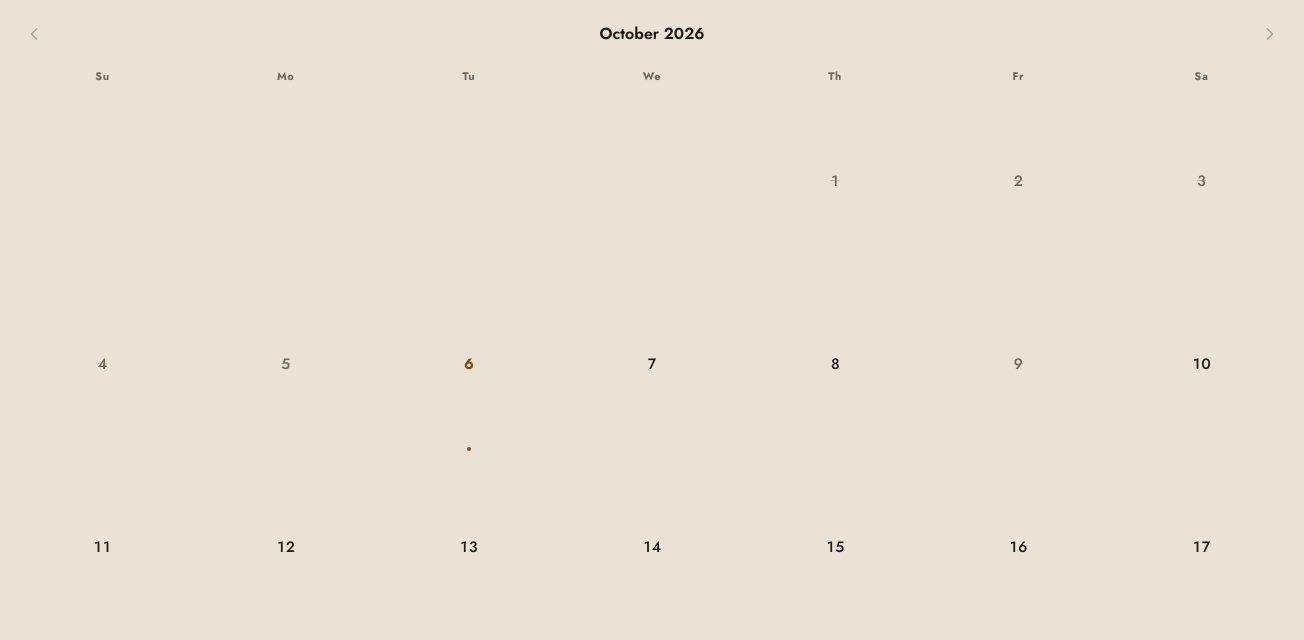
Test: a day that is not on offer › says it has passed
Click the cell named "Monday 5 October" at (286,364), box [195, 274, 376, 455]
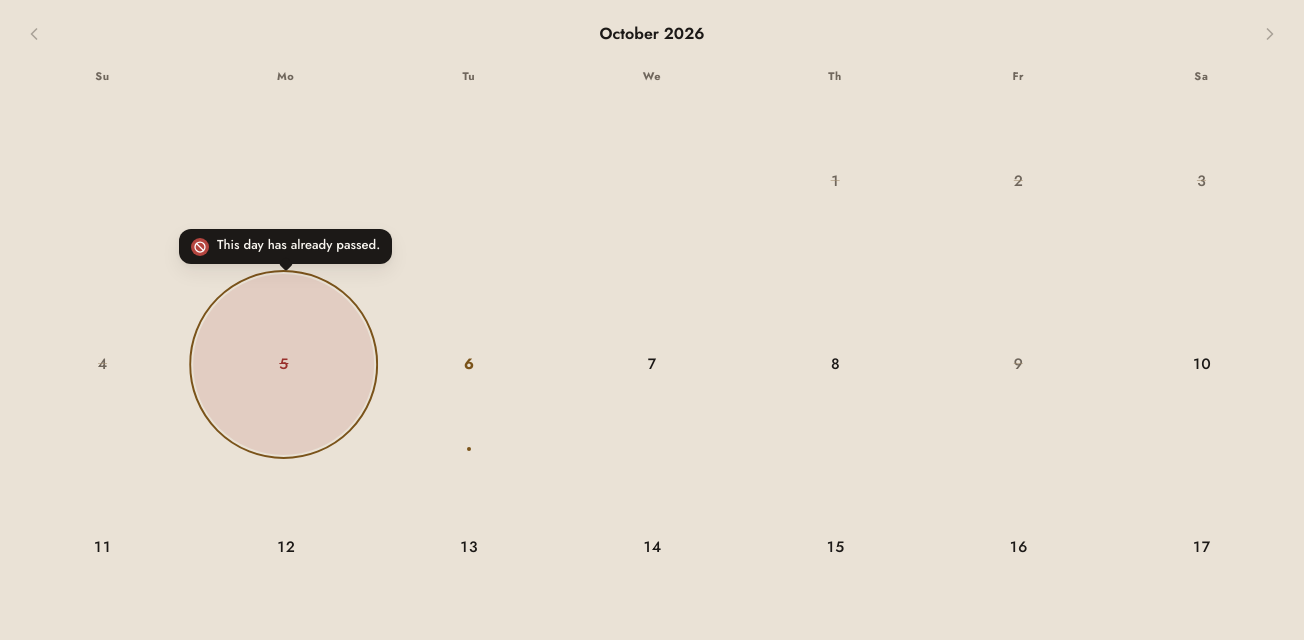
Expected: the tooltip reads "This day has already passed.", [217, 235, 380, 254]
